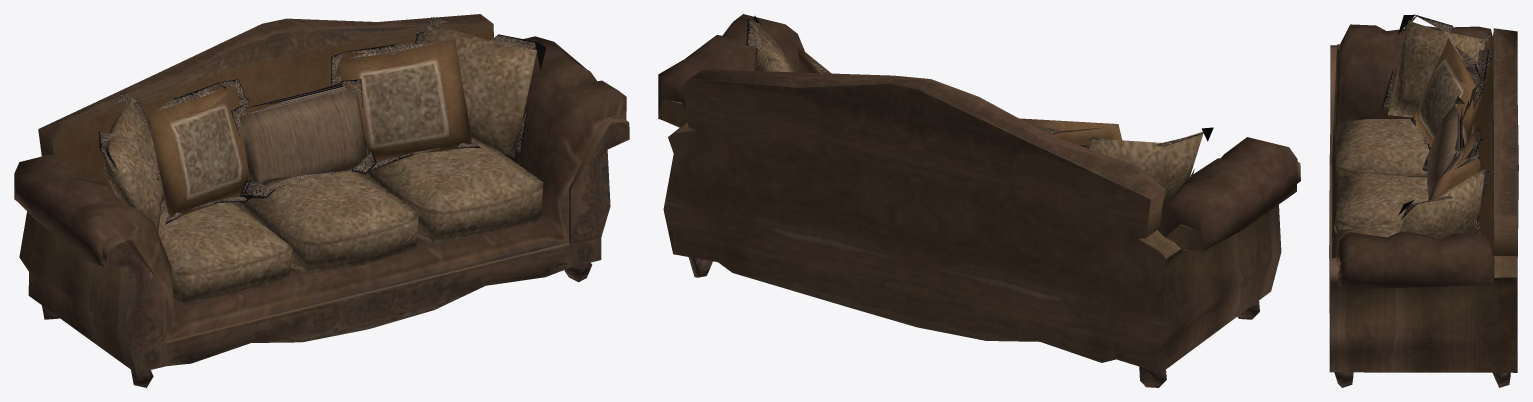
File: sofa_03_game.gltf
The picture shows the model from 3 angles, left to right: view 1: azimuth 30°, elevation 25°; view 2: azimuth 150°, elevation 25°; view 3: azimuth 270°, elevation 25°; orthographic projection. The views are drawn at different scales.
Visible parts, largest first — view 1: sofa_03; view 2: sofa_03; view 3: sofa_03.
Part boxes in pixels (x1,y1,x2,y2): sofa_03: [14, 14, 629, 387]; sofa_03: [658, 14, 1300, 387]; sofa_03: [1329, 14, 1518, 387].
Bounding box in the file's own units: 2.72 × 1.12 × 0.9237.
2 materials, 2 textured.
